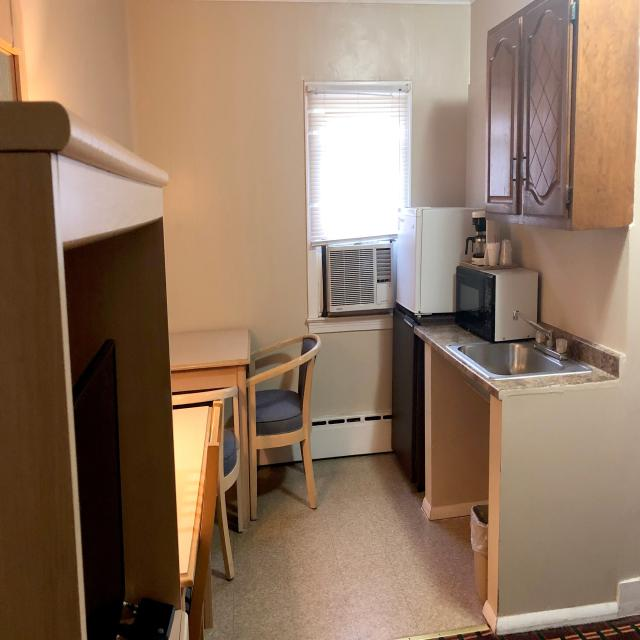Chair: (229, 332, 323, 526)
